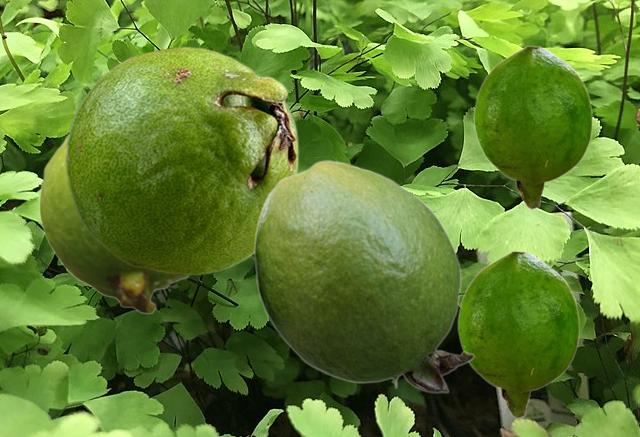guava: (65, 46, 298, 275), (253, 159, 474, 392), (38, 133, 189, 313), (457, 250, 579, 418), (473, 45, 592, 209)
